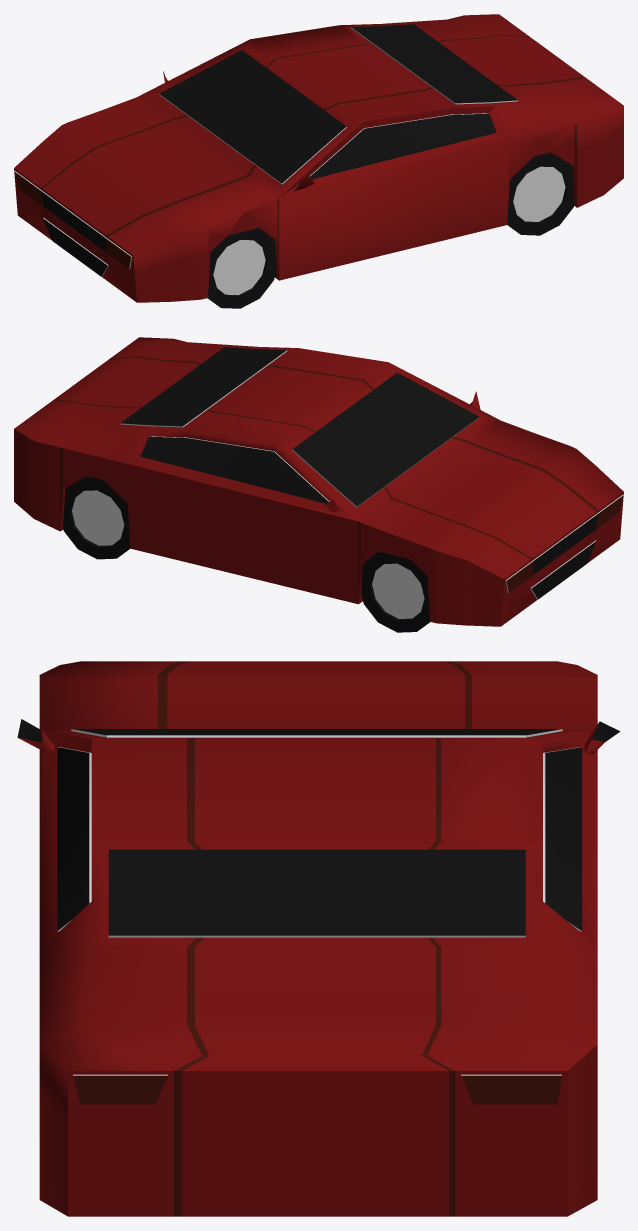
File: Electriccar_M_v1_Carrie.FBX
3 renders of one model, top to bottom at view 1: azimuth 30°, elevation 25°; view 2: azimuth 150°, elevation 25°; view 3: azimuth 270°, elevation 25°, orthographic. The views are drawn at different scales.
Visible parts, largest first — view 1: electriccar_base, electriccar_wheel; view 2: electriccar_base, electriccar_wheel; view 3: electriccar_base.
Boxes of the visible parts, box(x1,y1,x2,y2) form: electriccar_base: box(14, 14, 623, 302); electriccar_wheel: box(207, 152, 574, 308); electriccar_base: box(14, 337, 623, 626); electriccar_wheel: box(63, 476, 429, 632); electriccar_base: box(17, 661, 620, 1216).
Bounding box in the file's own units: 602 × 172 × 321.
